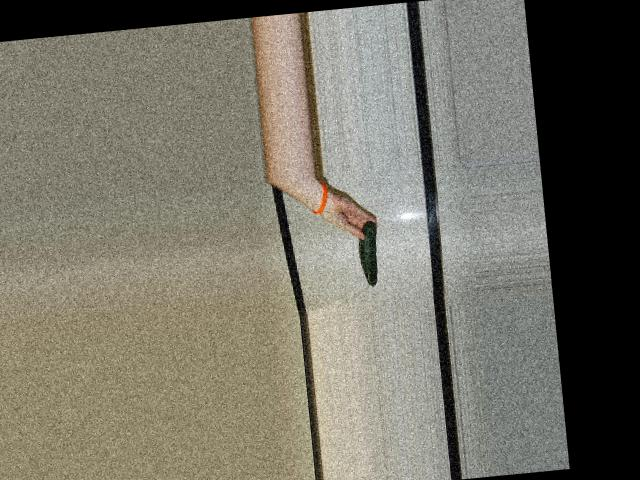cucumber: (357, 219, 382, 287)
